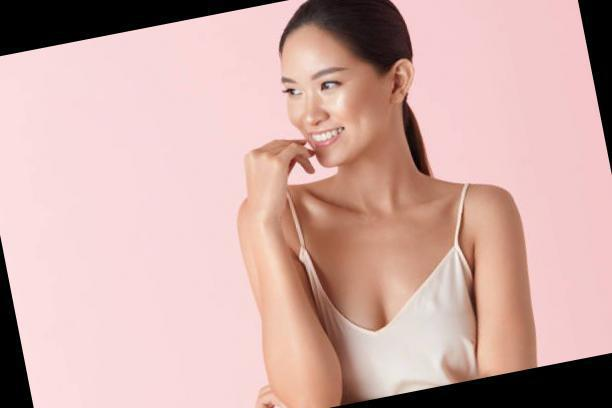Sober: (283, 41, 383, 161)
